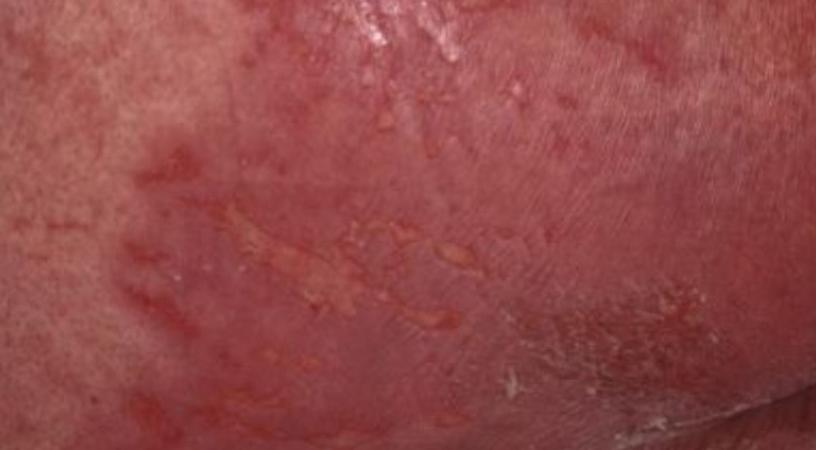Stage1: (196, 127, 580, 431)
